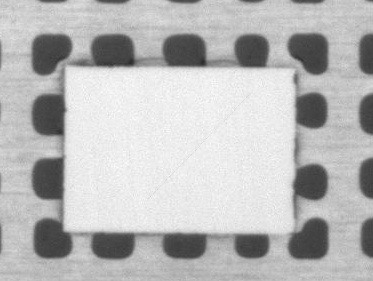DIE_CRACK: (196, 69, 333, 149)
